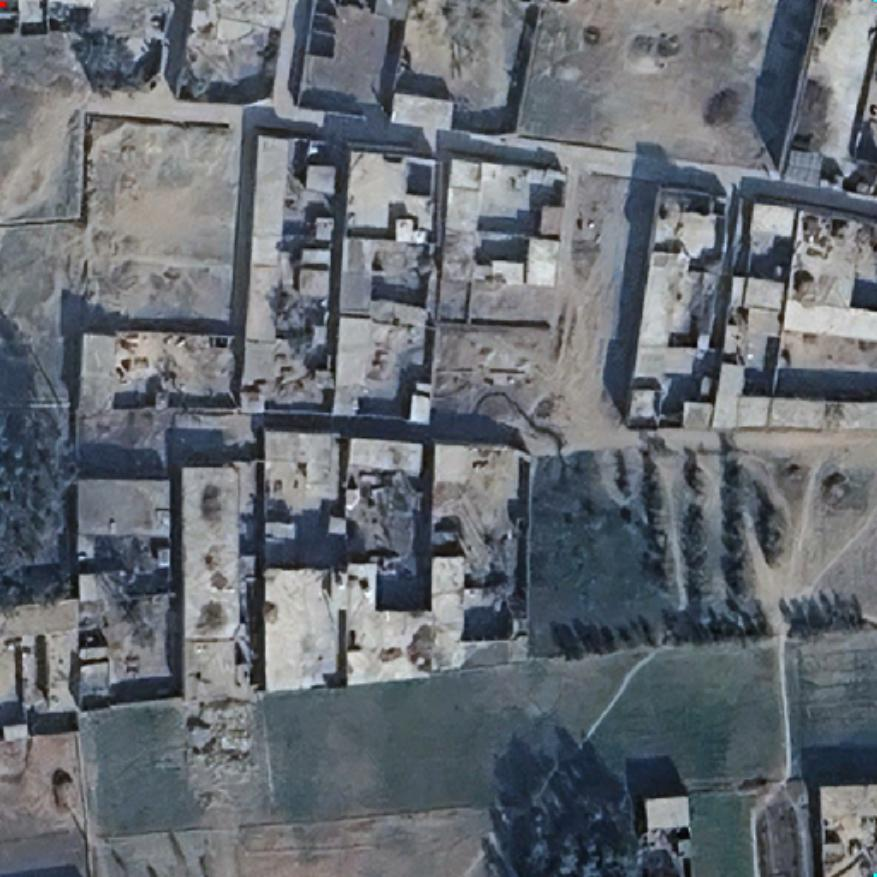Solarpanel: (782, 146, 824, 186)
